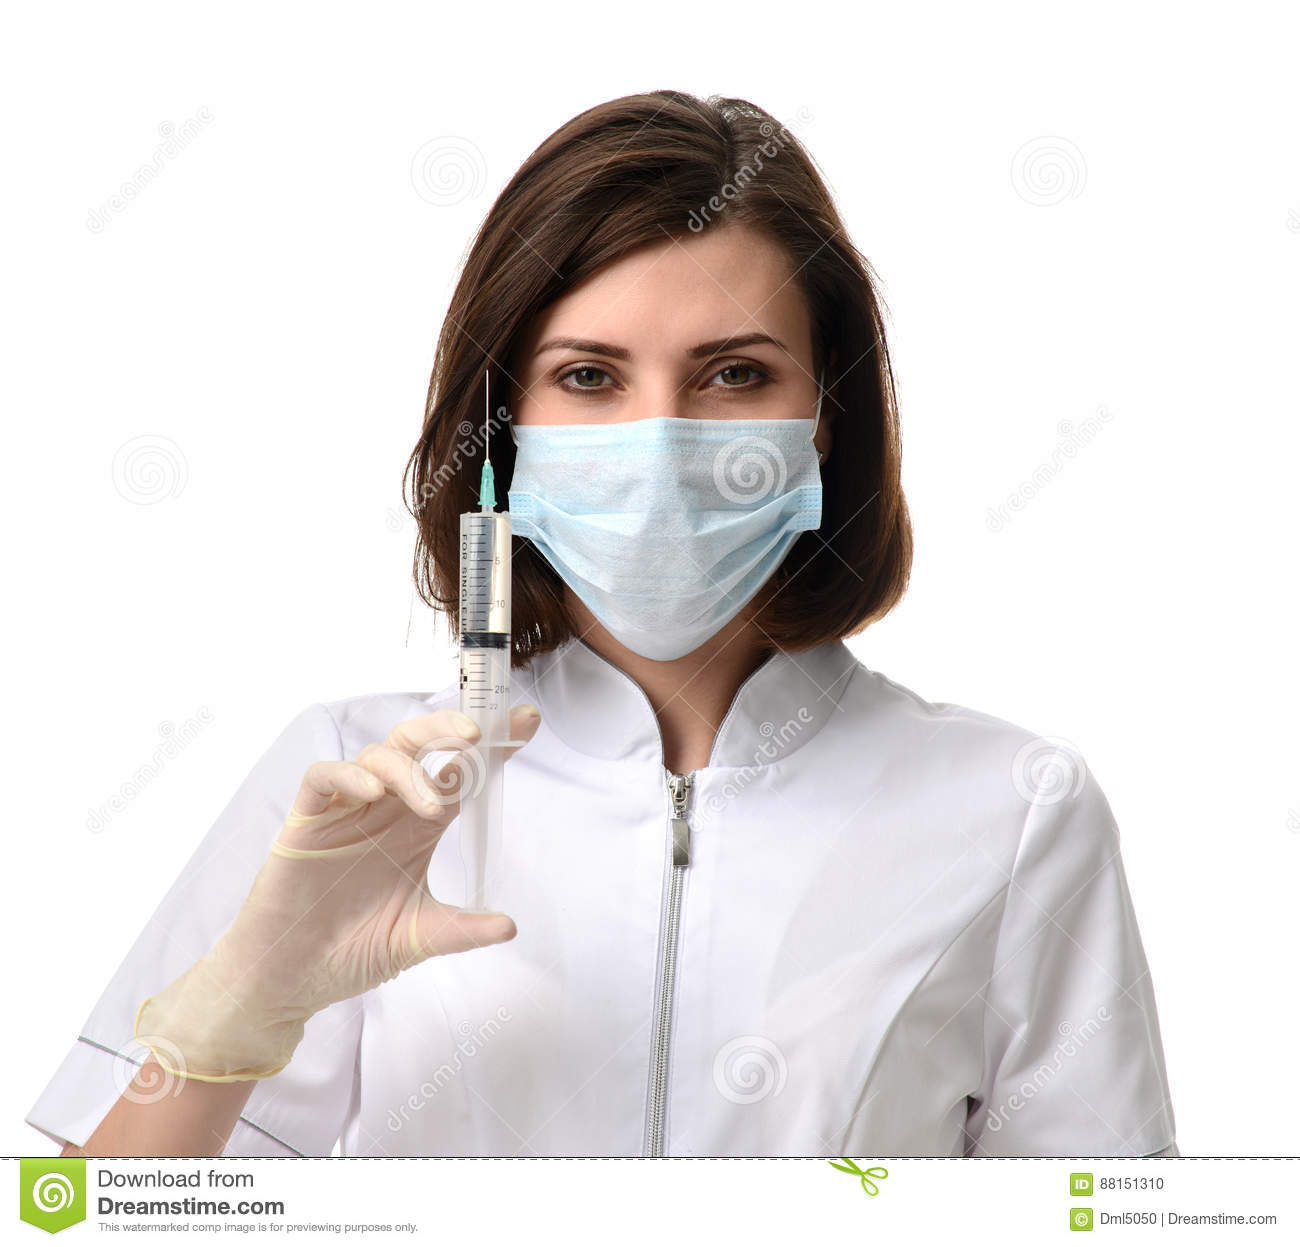mask: (499, 391, 847, 668)
